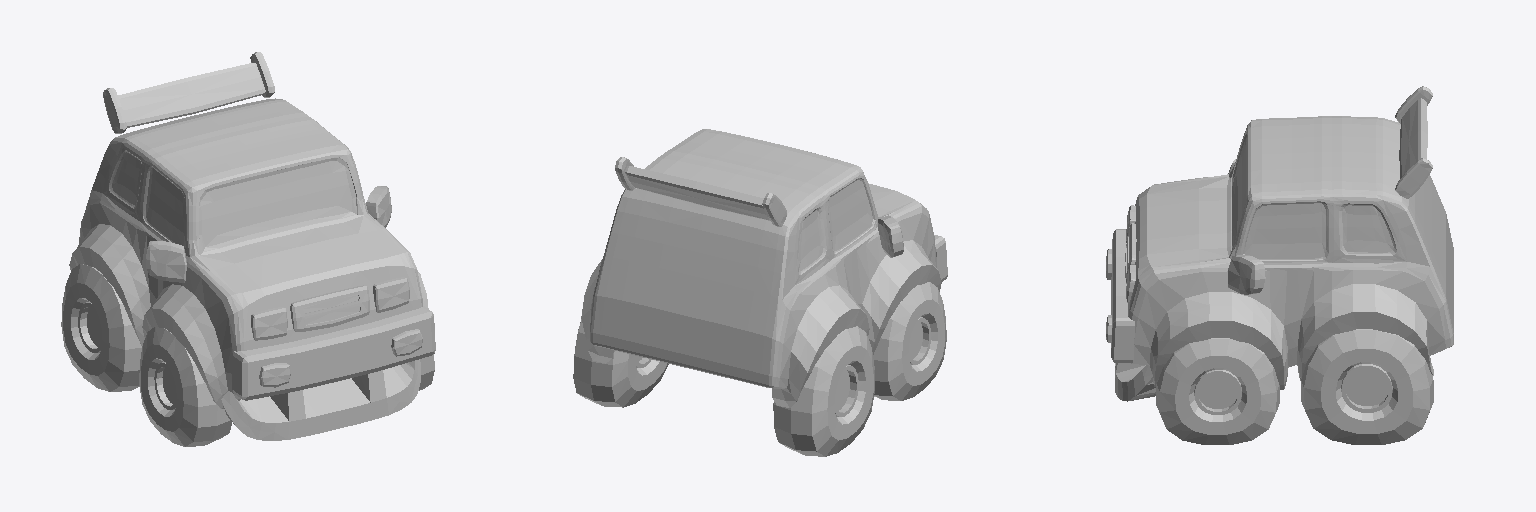
File: car final bgd.obj
3 views of the same model, side by side, from view 1: azimuth 30°, elevation 25°; view 2: azimuth 150°, elevation 25°; view 3: azimuth 270°, elevation 25° (orthographic).
Parts seen in each view (by area): view 1: Car_Mesh; view 2: Car_Mesh; view 3: Car_Mesh.
Part boxes in pixels (left/top/right/bottom): Car_Mesh: left=61, top=52, right=435, bottom=446; Car_Mesh: left=573, top=129, right=947, bottom=456; Car_Mesh: left=1106, top=86, right=1453, bottom=444.
Size of the model in its own units: 19.29 by 19.31 by 22.79.